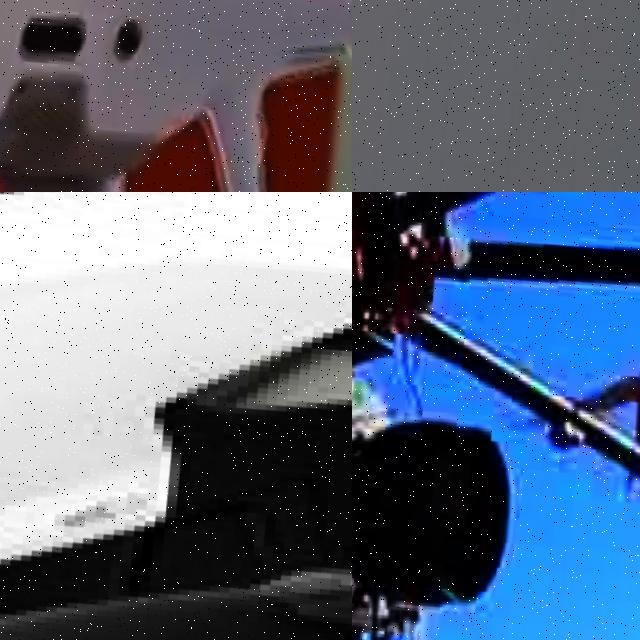0: (352, 192, 640, 640)
drone: (0, 192, 352, 640), (0, 0, 352, 192)
